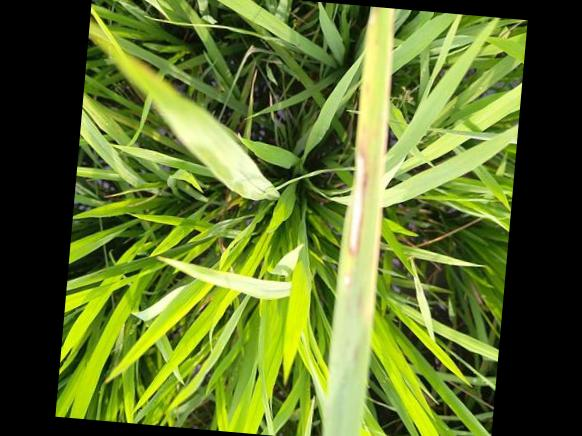Leaf Blight: (369, 8, 395, 318), (346, 139, 369, 256), (350, 284, 363, 336), (343, 273, 352, 287)
